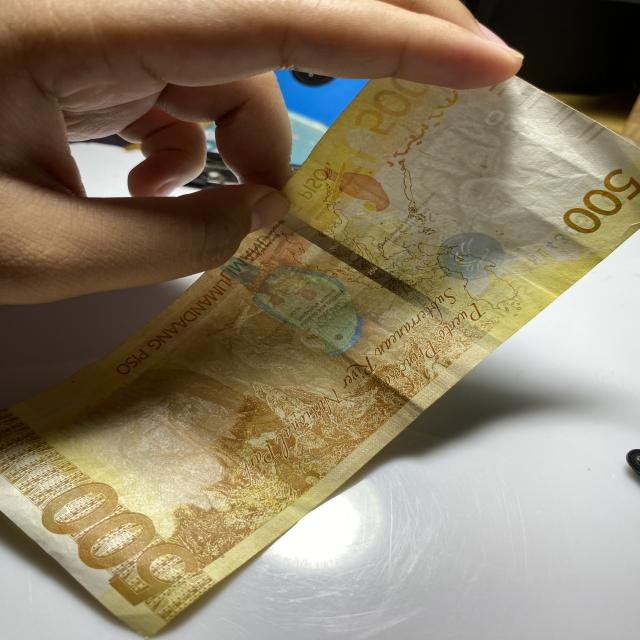500_big_parrot: (222, 251, 362, 359)
500_parrot_watermark: (321, 162, 401, 214)
value_watermark: (486, 110, 533, 146)
watermark: (423, 126, 577, 236)
